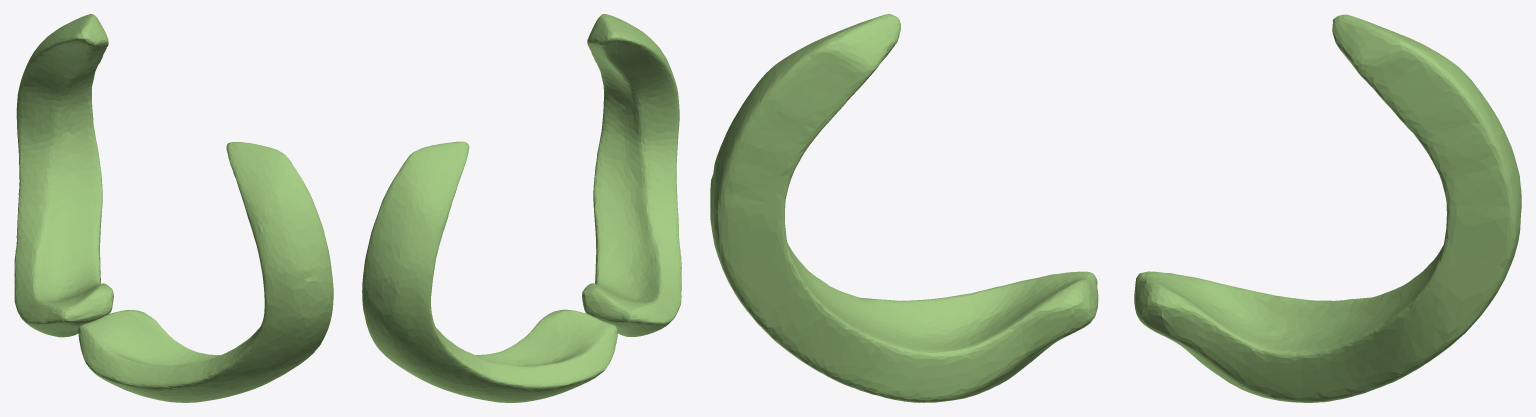
3 views of the same model, side by side, from view 1: azimuth 30°, elevation 25°; view 2: azimuth 150°, elevation 25°; view 3: azimuth 270°, elevation 25° (orthographic). The views are drawn at different scales.
Visible parts, largest first — view 1: 382.obj; view 2: 382.obj; view 3: 382.obj.
Boxes of the visible parts, x1,y1,x2,y2 form: 382.obj: (14,14,333,402); 382.obj: (362,14,681,402); 382.obj: (710,14,1521,402).
Size of the model in its own units: 2659 by 4645 by 8475.
